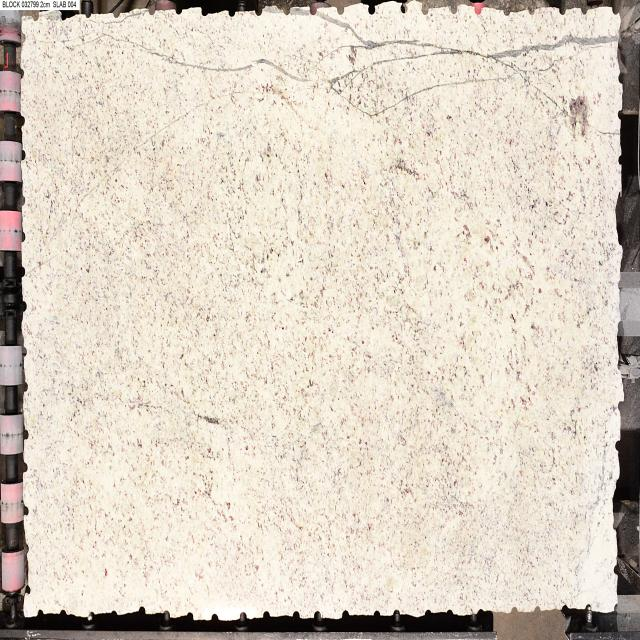chapa: (21, 0, 624, 615)
veio: (418, 1, 433, 18), (237, 608, 252, 624), (20, 342, 32, 361), (20, 460, 33, 477), (22, 504, 33, 523), (446, 2, 459, 18), (19, 295, 29, 315), (20, 425, 31, 443), (306, 2, 319, 16), (207, 612, 221, 625), (22, 376, 31, 396), (254, 3, 264, 21), (279, 3, 292, 16), (30, 12, 42, 26), (366, 1, 378, 15), (472, 4, 486, 15), (184, 610, 195, 624), (340, 608, 351, 622), (18, 226, 28, 241), (59, 10, 69, 25), (226, 8, 238, 20), (334, 3, 345, 16), (398, 1, 409, 14), (199, 5, 209, 19), (312, 608, 324, 619), (371, 608, 383, 619), (19, 264, 27, 280), (144, 8, 156, 18), (162, 608, 172, 620), (260, 607, 270, 619), (138, 604, 148, 615), (291, 609, 301, 620), (112, 8, 121, 20), (19, 31, 26, 46), (175, 5, 183, 18), (423, 608, 433, 618), (35, 608, 46, 617), (24, 586, 34, 595), (392, 606, 399, 618), (59, 607, 68, 615)
